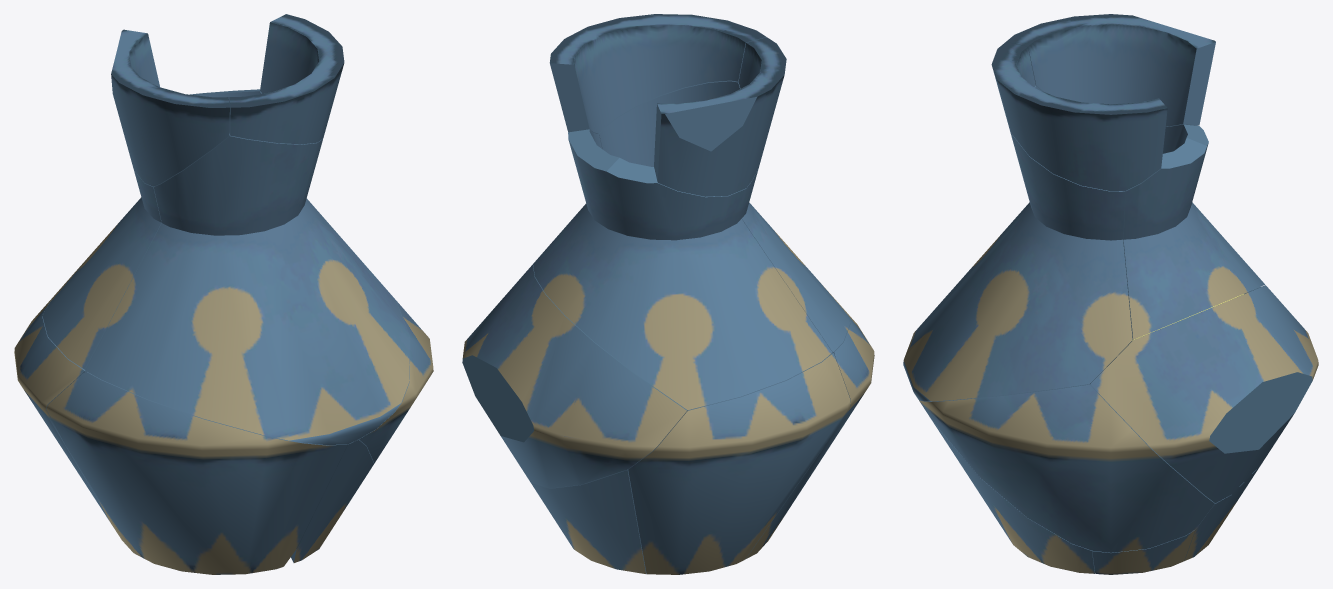
Rendered from POT_Key_Smashed.fbx.
3 views of the same model, side by side, from view 1: azimuth 30°, elevation 25°; view 2: azimuth 150°, elevation 25°; view 3: azimuth 270°, elevation 25° (orthographic).
Parts seen in each view (by area): view 1: jar_cell.016, jar_cell.006, jar_cell.012, jar_cell.010, jar_cell.001, jar_cell.007, jar_cell.009, jar_cell.005; view 2: jar_cell.001, jar_cell.007, jar_cell.002, jar_cell.010, jar_cell.012, jar_cell.016, jar_cell.014, jar_cell.006; view 3: jar_cell.016, jar_cell.002, jar_cell.005, jar_cell.001, jar_cell.012, jar_cell.010, jar_cell.009, jar_cell.004, jar_cell.014.
Boxes of the visible parts, x1=… form: jar_cell.016: x1=85, y1=133, x2=409, y2=445; jar_cell.006: x1=46, y1=371, x2=347, y2=574; jar_cell.012: x1=111, y1=29, x2=229, y2=186; jar_cell.010: x1=229, y1=14, x2=344, y2=144; jar_cell.001: x1=42, y1=89, x2=261, y2=369; jar_cell.007: x1=14, y1=298, x2=125, y2=544; jar_cell.009: x1=291, y1=439, x2=373, y2=562; jar_cell.005: x1=358, y1=300, x2=433, y2=463; jar_cell.001: x1=533, y1=129, x2=832, y2=410; jar_cell.007: x1=628, y1=353, x2=850, y2=574; jar_cell.002: x1=462, y1=264, x2=686, y2=488; jar_cell.010: x1=549, y1=14, x2=766, y2=133; jar_cell.012: x1=654, y1=37, x2=786, y2=196; jar_cell.016: x1=598, y1=80, x2=850, y2=352; jar_cell.014: x1=531, y1=469, x2=646, y2=573; jar_cell.006: x1=746, y1=308, x2=874, y2=558; jar_cell.016: x1=903, y1=86, x2=1132, y2=401; jar_cell.002: x1=1090, y1=285, x2=1318, y2=503; jar_cell.005: x1=919, y1=384, x2=1214, y2=552; jar_cell.001: x1=1123, y1=124, x2=1264, y2=339; jar_cell.012: x1=1006, y1=14, x2=1215, y2=126; jar_cell.010: x1=991, y1=42, x2=1167, y2=191; jar_cell.009: x1=932, y1=420, x2=1094, y2=573; jar_cell.004: x1=1092, y1=530, x2=1195, y2=574; jar_cell.014: x1=1184, y1=465, x2=1260, y2=560.
Size of the model in its own units: 2.42 by 3 by 2.42.
Materials: 2 (1 with a texture image).
